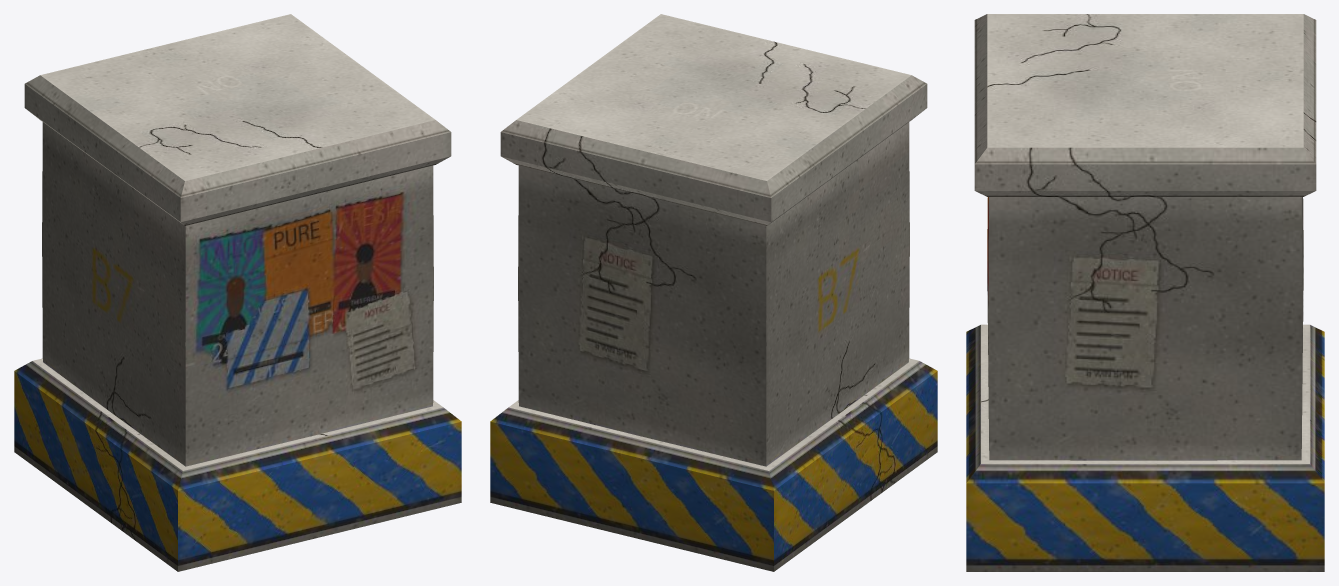
Rendered from prop_pillar_c-DLaCNKhl.glb.
3 renders of one model, left to right at view 1: azimuth 30°, elevation 25°; view 2: azimuth 150°, elevation 25°; view 3: azimuth 270°, elevation 25°, orthographic. The views are drawn at different scales.
Parts seen in each view (by area): view 1: prop_pillar_c_body; view 2: prop_pillar_c_body; view 3: prop_pillar_c_body.
Part boxes in pixels (left/top/right/bottom): prop_pillar_c_body: left=14, top=14, right=461, bottom=571; prop_pillar_c_body: left=490, top=14, right=937, bottom=571; prop_pillar_c_body: left=966, top=14, right=1324, bottom=571.
Size of the model in its own units: 0.86 by 1.1 by 0.86.
1 material, 1 textured.
